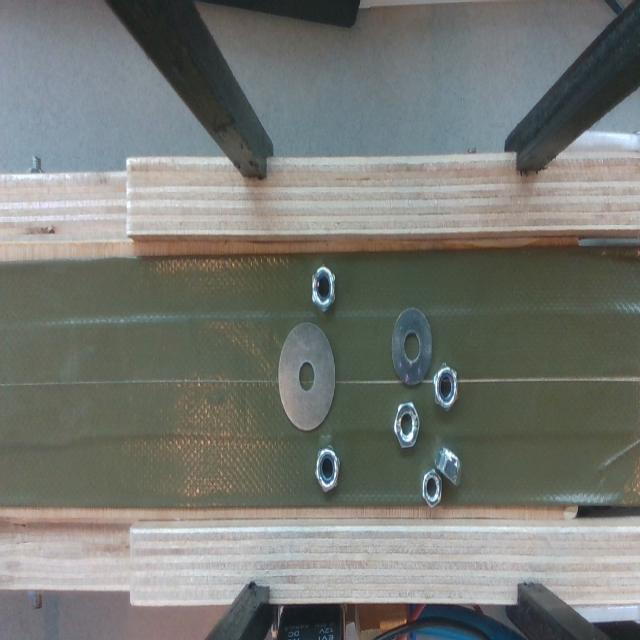Nut: (394, 402, 419, 447), (312, 264, 335, 312), (315, 447, 340, 491), (434, 364, 458, 409), (435, 447, 461, 485), (422, 469, 441, 507)
washer: (279, 324, 335, 431), (391, 307, 432, 385)
